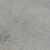others: (1, 15, 12, 45)
